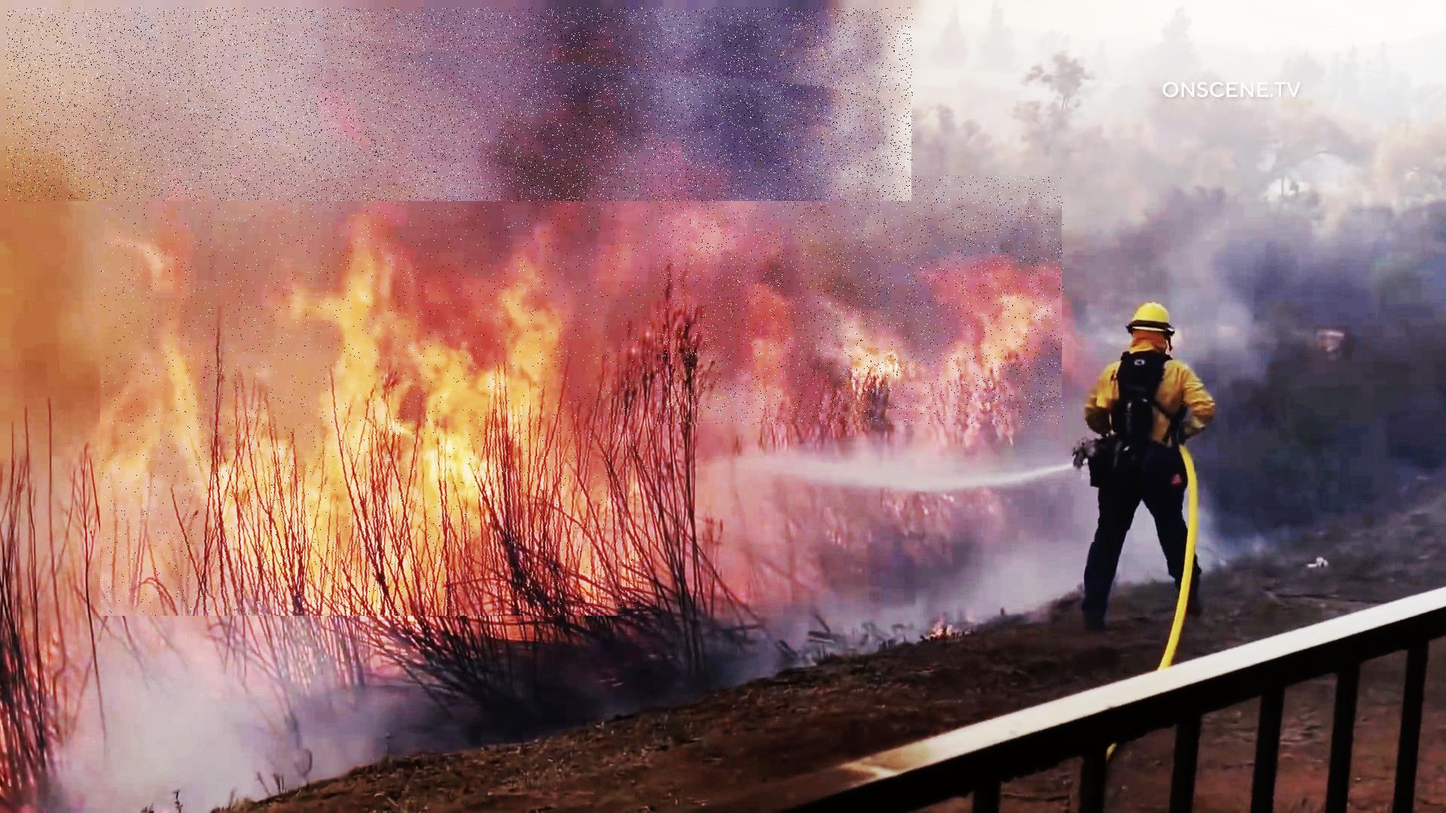fire: (100, 176, 656, 616), (657, 176, 1064, 425)
smoke: (6, 8, 914, 201)
